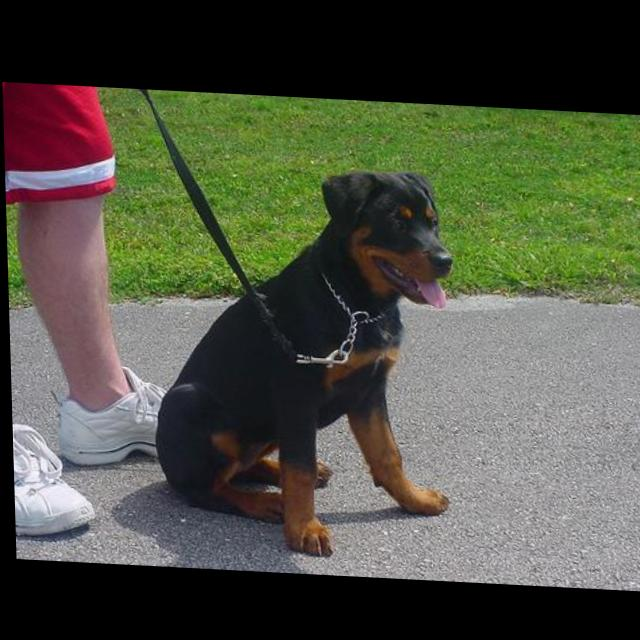person: (3, 83, 171, 546)
rottweiler: (148, 154, 462, 560)
